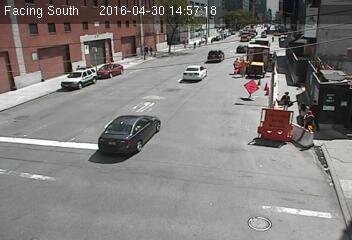neg: (234, 164, 265, 205), (132, 112, 162, 152), (35, 75, 59, 107), (189, 96, 206, 120), (120, 65, 127, 75)
pos: (302, 94, 329, 129), (294, 101, 314, 128), (277, 88, 295, 112), (230, 54, 243, 73), (142, 41, 151, 54), (146, 44, 155, 56)
